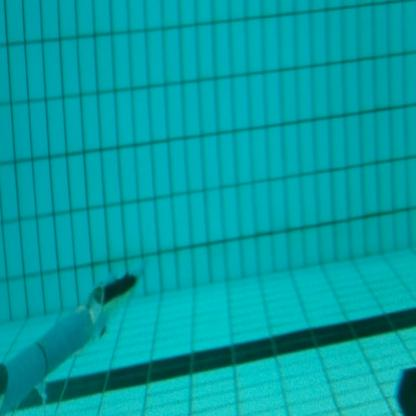tail: (88, 258, 148, 355)
